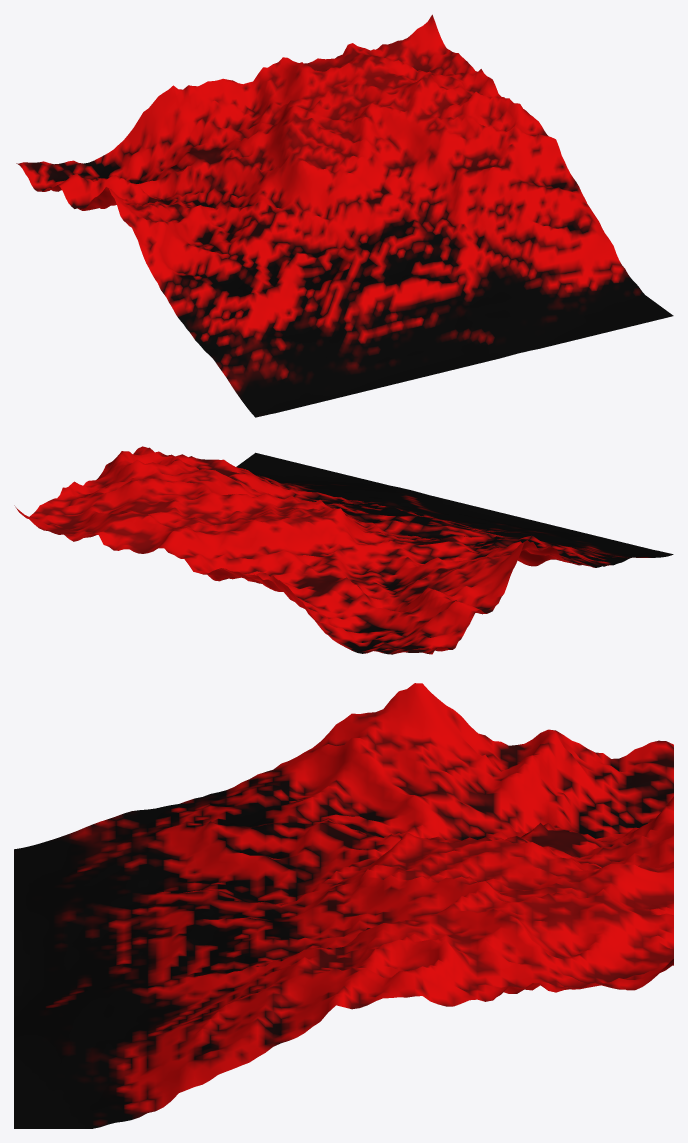
Rendered from SM_FutureCity_Terrain_3_1.fbx.
3 renders of one model, top to bottom at view 1: azimuth 30°, elevation 25°; view 2: azimuth 150°, elevation 25°; view 3: azimuth 270°, elevation 25°, orthographic. The views are drawn at different scales.
Visible parts, largest first — view 1: SM_FutureCity_Terrain_3_1; view 2: SM_FutureCity_Terrain_3_1; view 3: SM_FutureCity_Terrain_3_1.
Boxes of the visible parts, bbox=[...] form: SM_FutureCity_Terrain_3_1: bbox=[16, 14, 673, 417]; SM_FutureCity_Terrain_3_1: bbox=[14, 446, 673, 654]; SM_FutureCity_Terrain_3_1: bbox=[14, 683, 673, 1128].
Size of the model in its own units: 50400 by 14370 by 50400.
